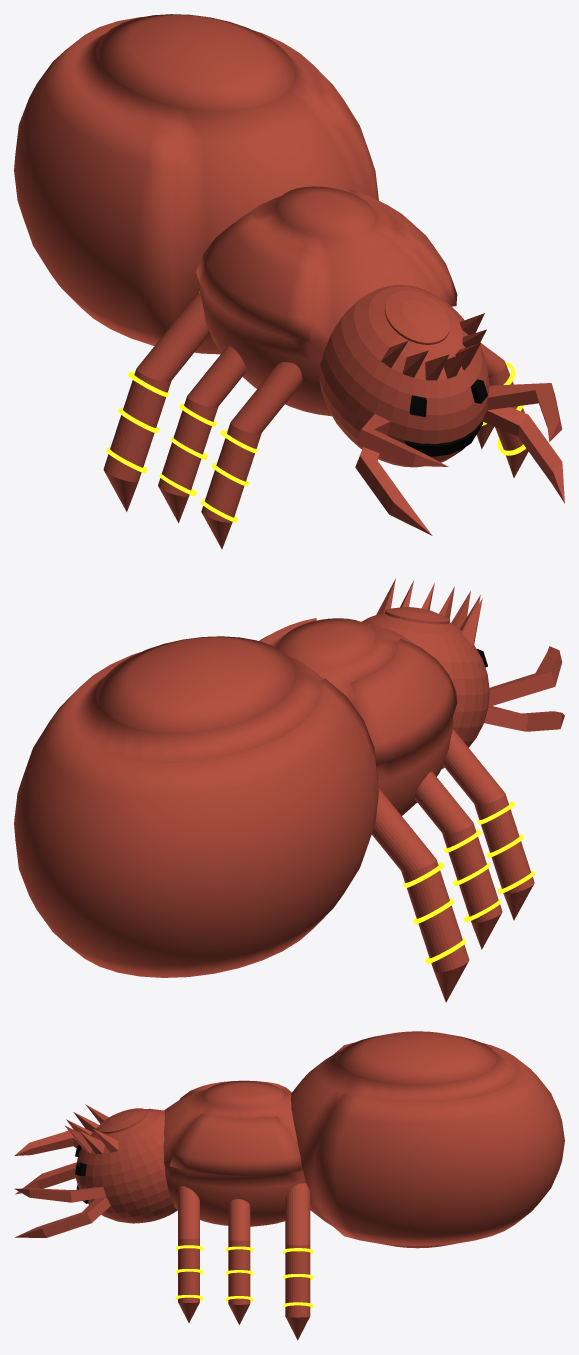
Rendered from Model_Defender_Advanced_MiscUpgrade.fbx.
The picture shows the model from 3 angles, top to bottom: view 1: azimuth 30°, elevation 25°; view 2: azimuth 150°, elevation 25°; view 3: azimuth 270°, elevation 25°; orthographic projection. The views are drawn at different scales.
Parts seen in each view (by area): view 1: Sphere, Sphere.001, Sphere.002, Cylinder, Cylinder.003; view 2: Sphere, Sphere.001, Cylinder, Sphere.002, Cylinder.003; view 3: Sphere, Sphere.001, Sphere.002, Cylinder, Cylinder.003.
Boxes of the visible parts, x1,y1,x2,y2 form: Sphere: (14, 14, 378, 354); Sphere.001: (196, 186, 457, 416); Sphere.002: (319, 285, 564, 535); Cylinder: (103, 291, 528, 549); Cylinder.003: (106, 342, 525, 522); Sphere: (14, 636, 378, 977); Sphere.001: (259, 618, 457, 815); Cylinder: (371, 728, 534, 1002); Sphere.002: (361, 578, 564, 769); Cylinder.003: (403, 801, 534, 964); Sphere: (291, 1031, 564, 1248); Sphere.001: (163, 1080, 305, 1226); Sphere.002: (14, 1104, 177, 1237); Cylinder: (178, 1183, 310, 1340); Cylinder.003: (175, 1245, 313, 1308).
Size of the model in its own units: 457 by 449 by 908.
